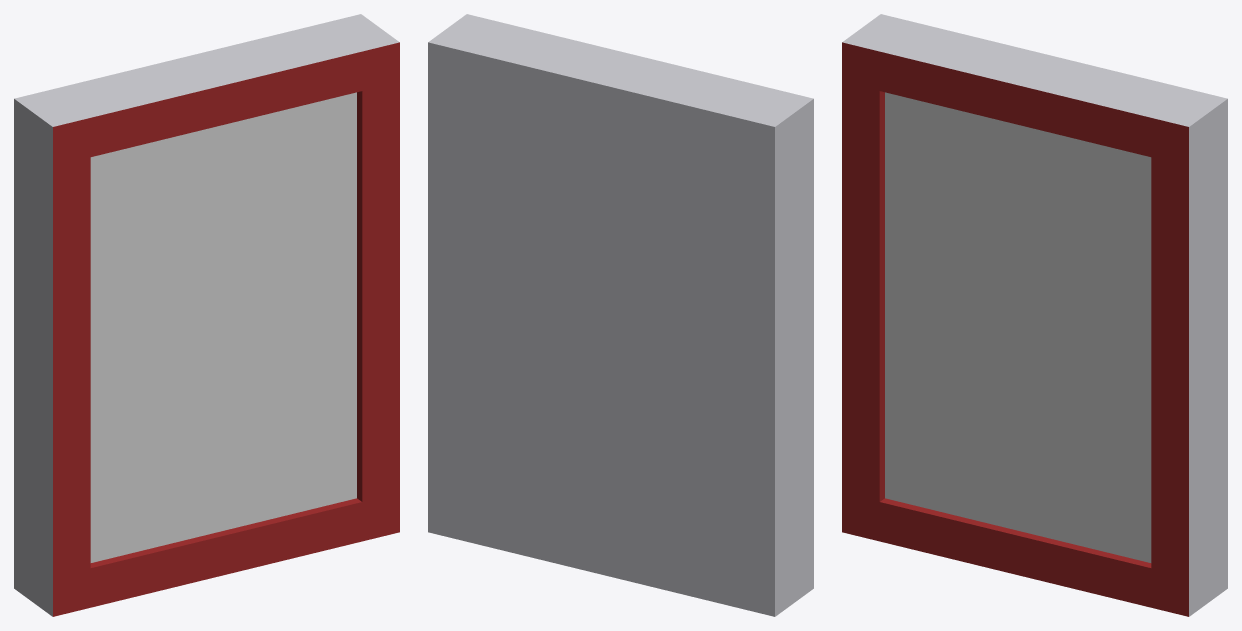
File: Asian_Prop_Building_Modular_Wall_Half_01.FBX
3 views of the same model, side by side, from view 1: azimuth 30°, elevation 25°; view 2: azimuth 150°, elevation 25°; view 3: azimuth 330°, elevation 25° (orthographic).
Visible parts, largest first — view 1: Asian_Prop_Building_Modular_Wall_Half_01; view 2: Asian_Prop_Building_Modular_Wall_Half_01; view 3: Asian_Prop_Building_Modular_Wall_Half_01.
Boxes of the visible parts, x1,y1,x2,y2 form: Asian_Prop_Building_Modular_Wall_Half_01: [14, 14, 399, 616]; Asian_Prop_Building_Modular_Wall_Half_01: [428, 14, 813, 616]; Asian_Prop_Building_Modular_Wall_Half_01: [842, 14, 1227, 616].
Size of the model in its own units: 2584 by 3485 by 500.
